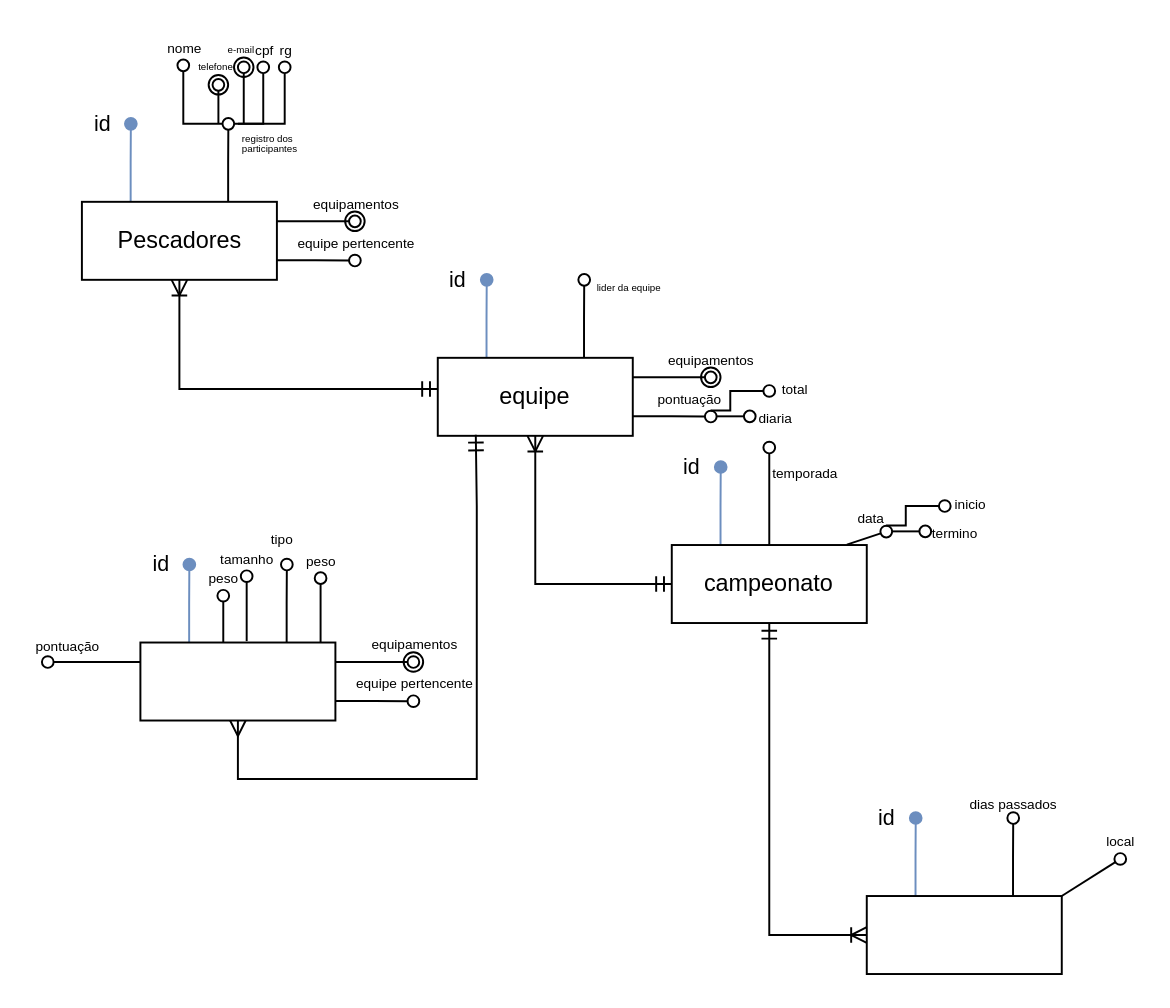
Image size: 1170x1008. Some labels were removed from this diagram. Each missing label, with the centre of its shape:
"Peixe" goes at point (236, 681).
"Áreas Pesqueiras" goes at point (963, 934).
